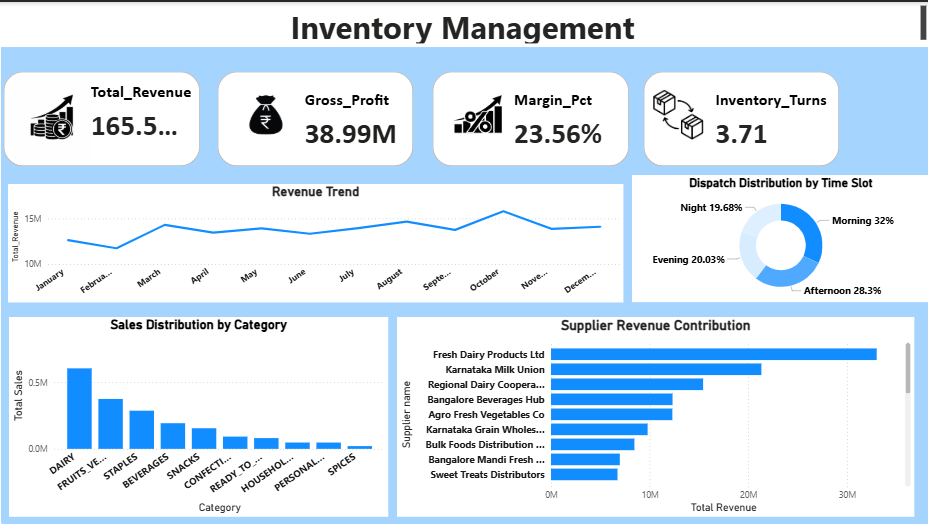

What the dashboard file says about the page in this screenshot:
{"tool":"powerbi","page":{"name":"Inv","canvas":[1280,720],"ordinal":0},"visuals":[{"type":"cardVisual","title":"T","fields":{"Data":["category_master.Total_Revenue"]},"box":[0,91.1,280.8,140.4],"z":0},{"type":"cardVisual","title":"T","fields":{"Data":["category_master.Gross_Profit"]},"box":[294.3,91.1,279.3,140.4],"z":1000},{"type":"cardVisual","title":"T","fields":{"Data":["category_master.Margin_Pct"]},"box":[590,91.1,280.8,140.4],"z":2000},{"type":"cardVisual","title":"T","fields":{"Data":["category_master.Inventory_Turns"]},"box":[881.3,91.1,279.3,140.4],"z":3000},{"type":"lineChart","title":"Revenue Trend","fields":{"Y":["category_master.Total_Revenue"],"Category":["gold dim_date.month_name"]},"box":[11.7,250,846.7,163.3],"z":4000},{"type":"donutChart","title":"Dispatch Distribution by Time Slot","fields":{"Category":["gold dim_time.time_slot"],"Y":["CountNonNull(gold fact_inventory_daily.outflow_qty)"]},"box":[870.1,238.5,409.9,174.7],"z":5000},{"type":"clusteredColumnChart","title":"Sales Distribution by Category","fields":{"Y":["Sum(gold fact_inventory_daily.outflow_qty)"],"Category":["gold dim_product.category"]},"box":[11.8,433.4,522.4,275.5],"z":6000},{"type":"barChart","title":"Supplier Revenue Contribution","fields":{"Category":["gold dim_supplier.supplier_name"],"Y":["category_master.Total_Revenue"]},"box":[545.9,433.4,712.2,275.5],"z":7000},{"type":"textbox","box":[0,0,1280,62.2],"z":8000}]}

Visuals, with their boxes in screenshot pixels (x1, y1, x2, y2), scaled from the page's 1280x720 canvas onto the 928x525 screenshot:
"T" cardVisual: bbox=(0, 66, 204, 169)
"T" cardVisual: bbox=(213, 66, 416, 169)
"T" cardVisual: bbox=(428, 66, 631, 169)
"T" cardVisual: bbox=(639, 66, 841, 169)
"Revenue Trend" lineChart: bbox=(8, 182, 622, 301)
"Dispatch Distribution by Time Slot" donutChart: bbox=(631, 174, 927, 301)
"Sales Distribution by Category" clusteredColumnChart: bbox=(9, 316, 387, 517)
"Supplier Revenue Contribution" barChart: bbox=(396, 316, 912, 517)
textbox: bbox=(0, 0, 927, 45)
